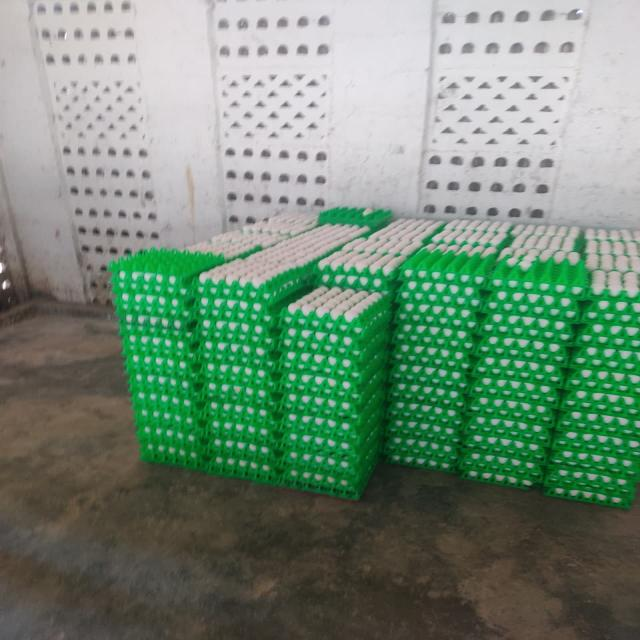egg_tray: (29, 0, 168, 304), (201, 226, 363, 482), (460, 228, 585, 488), (384, 224, 505, 470), (545, 230, 639, 508), (199, 227, 353, 396), (112, 250, 221, 468), (114, 251, 223, 465), (282, 287, 390, 497), (385, 247, 479, 470), (199, 226, 361, 348), (471, 246, 585, 406), (391, 246, 494, 392), (135, 374, 273, 480), (281, 289, 390, 419), (394, 225, 500, 358), (394, 245, 496, 382), (485, 228, 585, 357), (200, 225, 367, 302), (484, 228, 585, 352), (282, 287, 391, 401), (281, 356, 384, 474), (554, 360, 639, 501), (112, 237, 234, 332), (485, 228, 586, 340), (112, 250, 223, 349), (475, 294, 572, 404), (477, 282, 579, 384), (125, 336, 203, 466), (281, 393, 381, 492), (484, 247, 587, 342), (110, 250, 223, 336), (396, 244, 497, 340), (545, 407, 639, 508), (200, 291, 283, 401), (201, 365, 279, 482), (545, 411, 639, 508), (385, 360, 467, 470), (224, 226, 367, 288), (460, 394, 554, 488), (319, 219, 441, 290), (127, 351, 203, 464), (281, 392, 382, 476), (199, 340, 279, 445), (199, 296, 279, 401), (281, 408, 381, 492), (281, 393, 381, 475), (545, 414, 632, 506), (578, 230, 639, 361), (281, 286, 391, 358), (390, 300, 477, 390), (117, 293, 195, 392), (401, 220, 510, 290), (119, 300, 197, 392), (281, 427, 379, 498), (281, 357, 385, 420), (459, 416, 549, 488), (199, 329, 278, 408), (553, 409, 639, 481), (198, 294, 281, 368), (544, 444, 639, 508), (185, 214, 317, 260), (198, 273, 285, 342), (111, 249, 224, 302), (187, 214, 317, 260), (131, 389, 205, 468), (383, 402, 463, 471), (115, 286, 196, 354), (499, 225, 583, 290), (282, 286, 390, 336), (280, 330, 385, 380), (584, 230, 639, 325), (130, 384, 201, 456), (131, 384, 204, 452), (204, 392, 279, 458), (490, 246, 587, 297), (282, 394, 383, 442), (281, 378, 383, 425), (401, 241, 497, 290), (282, 452, 377, 500), (553, 414, 639, 466), (198, 296, 282, 348), (464, 414, 551, 464), (136, 406, 206, 468), (198, 337, 277, 388), (469, 364, 559, 406), (345, 218, 443, 256), (204, 436, 281, 484), (544, 468, 635, 508), (319, 250, 406, 290), (207, 398, 277, 445), (281, 328, 387, 359), (501, 228, 579, 270), (111, 261, 186, 304), (202, 360, 278, 402), (397, 276, 483, 313), (127, 353, 198, 396), (475, 335, 570, 367), (115, 292, 194, 330), (185, 230, 285, 260), (460, 451, 541, 488), (501, 225, 581, 262), (199, 337, 277, 374), (485, 290, 579, 320), (474, 354, 563, 385), (587, 243, 639, 296), (465, 396, 556, 426), (135, 408, 203, 448), (582, 278, 639, 325), (384, 436, 458, 472), (207, 430, 277, 468), (396, 302, 477, 334), (387, 402, 461, 436), (203, 452, 281, 484), (496, 248, 572, 280), (391, 342, 474, 371), (389, 362, 469, 392), (558, 409, 639, 438), (509, 224, 581, 256), (567, 364, 639, 396), (389, 382, 465, 410), (393, 324, 474, 350), (141, 438, 205, 470), (577, 318, 639, 351), (125, 352, 195, 380), (431, 223, 509, 248), (509, 225, 581, 252), (121, 309, 195, 335), (123, 333, 197, 358), (572, 345, 639, 372), (565, 369, 613, 406), (242, 213, 317, 236), (318, 207, 391, 230), (131, 336, 191, 363), (584, 228, 639, 253), (510, 224, 581, 242), (443, 218, 512, 233), (442, 218, 512, 232), (265, 212, 319, 229), (0, 255, 16, 310), (515, 237, 550, 257), (527, 295, 547, 314), (280, 273, 305, 288), (571, 254, 583, 278), (556, 300, 573, 316), (443, 228, 463, 241), (283, 352, 306, 362), (143, 278, 159, 292), (619, 414, 638, 425), (608, 349, 620, 366), (487, 294, 499, 310), (221, 385, 238, 396), (209, 270, 222, 283), (489, 418, 517, 424), (403, 262, 417, 273), (509, 340, 518, 356), (491, 272, 502, 284), (241, 387, 251, 398), (565, 228, 577, 237), (523, 350, 535, 359), (454, 366, 463, 378), (495, 282, 516, 287), (394, 345, 405, 354), (613, 500, 629, 506), (621, 350, 637, 356), (229, 364, 238, 374), (559, 243, 571, 250), (605, 354, 615, 362), (376, 380, 381, 394), (187, 434, 194, 444), (484, 344, 491, 354), (255, 388, 263, 396), (581, 355, 587, 365), (453, 268, 459, 278), (485, 344, 491, 353), (452, 380, 461, 386), (377, 381, 381, 394), (625, 492, 632, 499), (265, 338, 271, 346), (570, 309, 575, 318), (218, 240, 229, 244), (241, 246, 248, 252), (568, 301, 575, 307), (421, 252, 429, 257), (553, 241, 558, 249), (201, 274, 207, 280), (283, 310, 289, 316), (246, 464, 251, 471), (346, 235, 353, 240), (157, 341, 162, 348), (244, 339, 255, 342), (251, 246, 259, 250), (433, 362, 441, 366), (572, 290, 580, 294), (497, 352, 505, 356), (578, 288, 583, 294), (492, 336, 497, 342), (550, 484, 556, 489), (239, 464, 246, 468), (625, 482, 629, 489), (189, 456, 194, 461), (242, 368, 246, 374), (171, 282, 179, 285), (435, 362, 441, 366), (570, 496, 581, 498), (543, 248, 550, 251), (558, 298, 563, 302), (311, 354, 316, 358), (199, 288, 203, 293), (570, 274, 574, 279), (592, 242, 595, 248), (216, 364, 225, 366), (271, 420, 275, 424), (174, 354, 178, 358), (329, 246, 333, 250), (487, 234, 495, 236), (339, 362, 343, 366), (230, 251, 233, 256), (257, 398, 262, 401), (557, 289, 562, 292), (538, 236, 545, 238), (573, 412, 580, 414), (579, 335, 581, 342), (132, 254, 139, 256), (608, 416, 615, 418), (559, 239, 563, 242), (587, 290, 589, 296), (196, 398, 199, 402), (207, 247, 211, 250), (199, 284, 202, 288), (169, 451, 173, 454), (307, 334, 311, 337), (437, 350, 442, 352), (601, 394, 606, 396), (168, 452, 173, 454), (592, 486, 597, 488), (461, 274, 464, 277), (554, 294, 557, 297), (605, 259, 608, 262), (219, 260, 222, 263), (264, 234, 267, 237), (383, 336, 386, 339), (142, 358, 146, 360), (604, 246, 608, 248), (376, 442, 378, 446), (525, 344, 529, 346), (330, 443, 332, 446), (203, 369, 205, 372), (627, 460, 630, 462), (627, 456, 630, 458), (523, 256, 525, 259), (616, 238, 619, 240), (472, 248, 475, 250), (456, 236, 459, 238), (225, 421, 227, 424), (194, 411, 197, 413), (247, 407, 253, 408), (341, 240, 344, 242), (358, 230, 361, 232), (159, 459, 162, 461), (171, 346, 174, 348), (636, 478, 639, 480), (341, 362, 343, 365), (591, 260, 593, 262), (597, 246, 599, 248), (403, 386, 405, 388), (263, 468, 265, 470), (163, 370, 165, 372), (217, 342, 219, 344), (195, 427, 199, 428), (561, 282, 563, 284), (450, 334, 452, 336), (327, 422, 329, 424), (501, 223, 505, 224), (563, 494, 565, 496), (581, 351, 583, 353), (587, 257, 588, 260), (587, 253, 588, 256), (606, 502, 609, 503), (633, 370, 636, 371), (512, 245, 513, 247), (591, 238, 592, 240), (587, 232, 588, 234), (241, 267, 242, 269), (235, 398, 237, 399), (550, 493, 552, 494), (381, 345, 381, 345), (558, 321, 560, 321), (564, 317, 565, 317), (421, 270, 421, 270), (457, 352, 463, 352), (372, 383, 373, 383), (538, 352, 539, 352), (587, 265, 588, 265), (601, 239, 606, 239), (614, 232, 617, 232), (465, 321, 465, 321), (420, 352, 421, 352), (500, 241, 501, 241), (469, 237, 470, 237), (273, 248, 274, 248), (323, 372, 323, 372), (254, 468, 255, 468), (163, 426, 166, 426), (244, 381, 245, 381), (135, 350, 137, 350), (417, 247, 419, 247), (327, 361, 328, 361), (551, 230, 553, 230), (543, 228, 543, 228), (518, 368, 520, 368), (536, 434, 538, 434), (289, 234, 292, 234), (574, 363, 575, 363), (553, 228, 555, 228)
